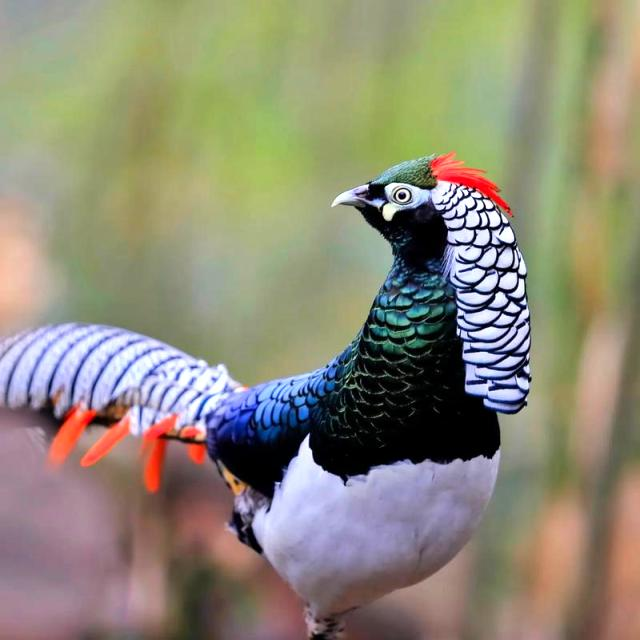Chrysolophus amherstiae: (0, 323, 240, 435)
